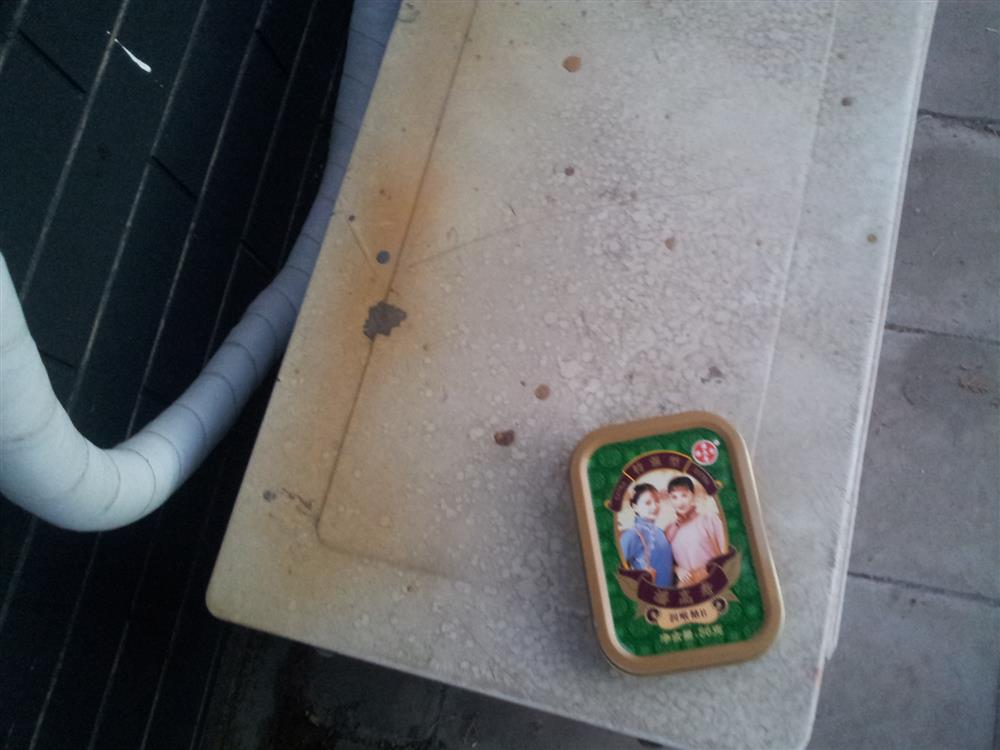pangaoshou: (565, 407, 787, 681)
